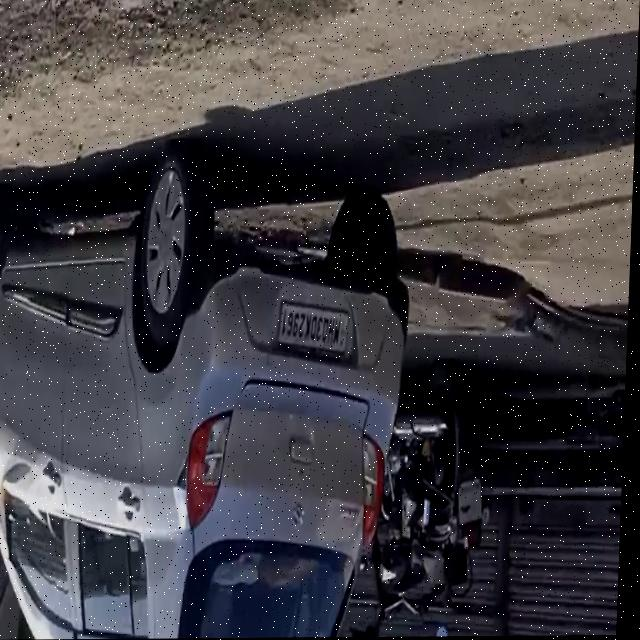plate: (280, 301, 353, 357), (461, 478, 488, 527)
